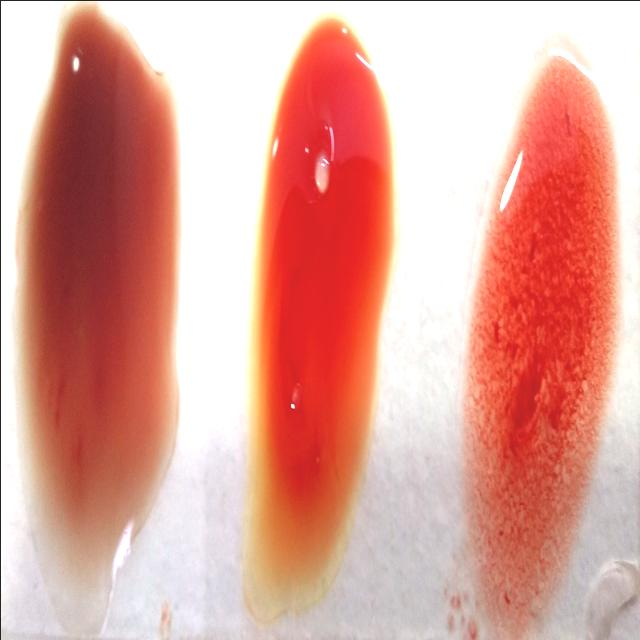D: (466, 60, 612, 604)
